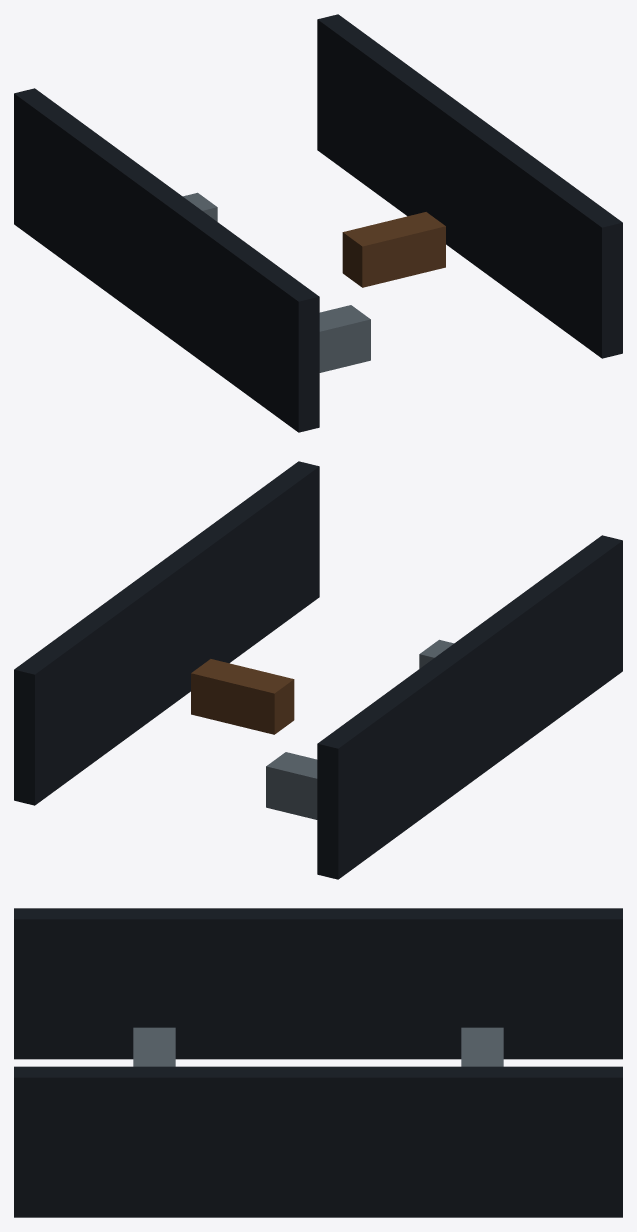
Rendered from module.hallway_offset_cover_s.glb.
3 renders of one model, top to bottom at view 1: azimuth 30°, elevation 25°; view 2: azimuth 150°, elevation 25°; view 3: azimuth 270°, elevation 25°, orthographic. The views are drawn at different scales.
Visible parts, largest first — view 1: left_wall, right_wall, mid_cover_right, near_cover_left; view 2: left_wall, right_wall, mid_cover_right, far_cover_left; view 3: right_wall, left_wall, near_cover_left, far_cover_left.
Boxes of the visible parts, bbox=[...] form: left_wall: bbox=[14, 88, 319, 432]; right_wall: bbox=[317, 14, 622, 358]; mid_cover_right: bbox=[342, 212, 445, 287]; near_cover_left: bbox=[319, 305, 370, 372]; left_wall: bbox=[317, 535, 622, 879]; right_wall: bbox=[14, 461, 319, 805]; mid_cover_right: bbox=[191, 659, 294, 734]; far_cover_left: bbox=[266, 752, 317, 819]; right_wall: bbox=[14, 1066, 622, 1217]; left_wall: bbox=[14, 908, 622, 1059]; near_cover_left: bbox=[133, 1027, 175, 1066]; far_cover_left: bbox=[461, 1027, 503, 1066].
Size of the model in its own units: 8.55 by 3.3 by 13.
